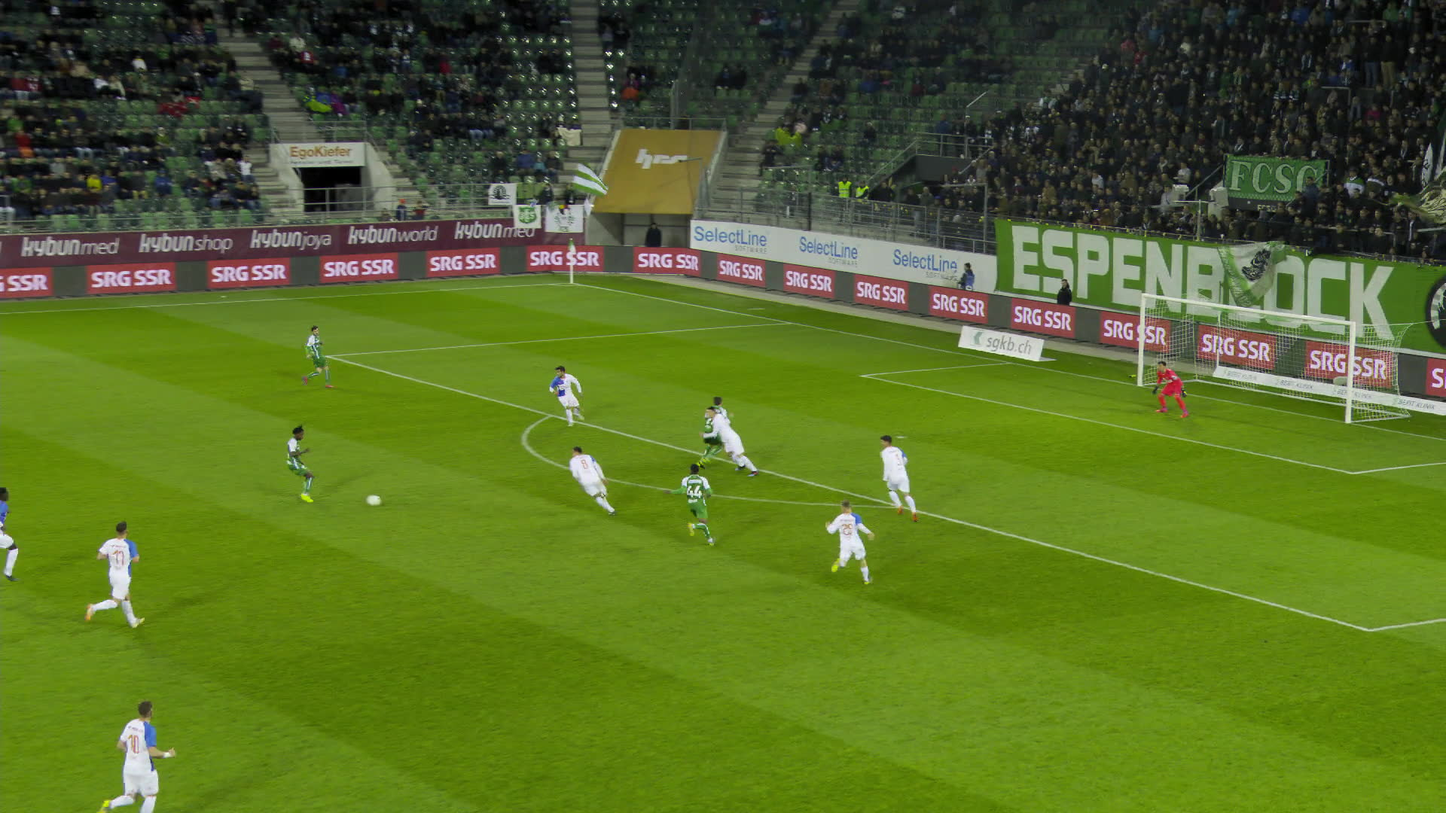ball: (365, 495, 381, 504)
player: (93, 696, 170, 811), (81, 520, 145, 630), (813, 499, 869, 585), (569, 446, 621, 522), (670, 458, 713, 544), (694, 400, 744, 470), (880, 436, 922, 518), (284, 422, 325, 501), (688, 395, 731, 467), (300, 322, 339, 388), (548, 363, 587, 429), (1155, 355, 1189, 414), (0, 487, 20, 581)
